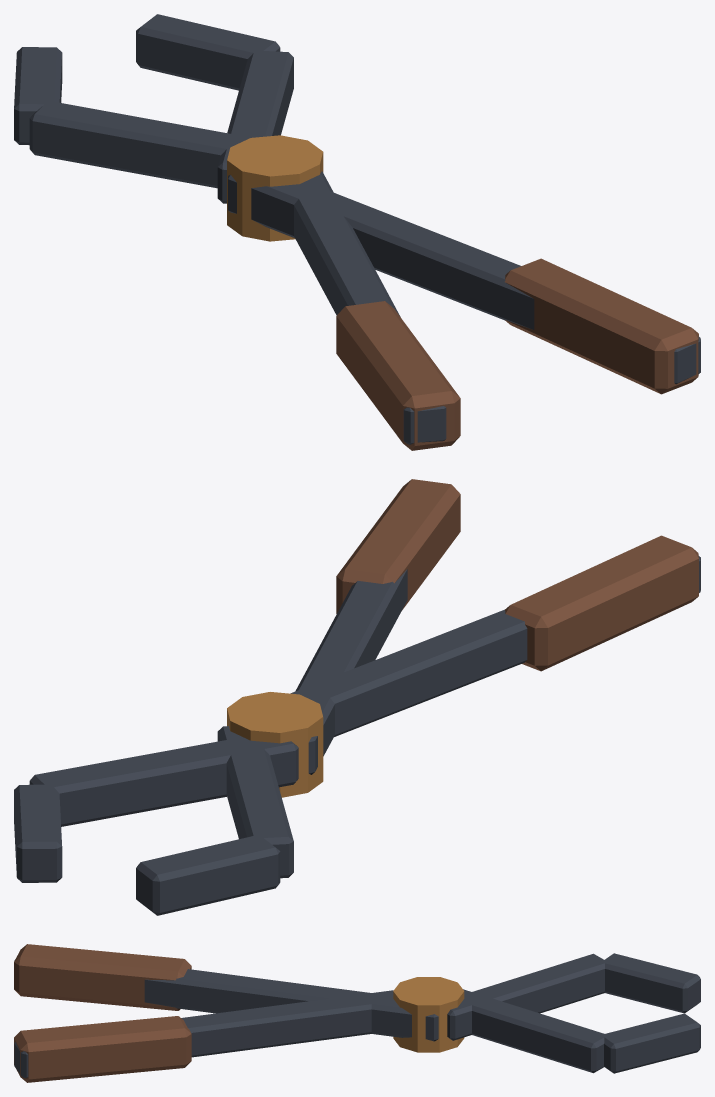
Rendered from 07_Smith_Tongs.glb.
3 renders of one model, top to bottom at view 1: azimuth 30°, elevation 25°; view 2: azimuth 150°, elevation 25°; view 3: azimuth 270°, elevation 25°, orthographic. The views are drawn at different scales.
Parts seen in each view (by area): view 1: 07_Smith_Tongs__Body; view 2: 07_Smith_Tongs__Body; view 3: 07_Smith_Tongs__Body.
Boxes of the visible parts, <box> form: 07_Smith_Tongs__Body: <box>14,14,700,450</box>; 07_Smith_Tongs__Body: <box>14,479,700,915</box>; 07_Smith_Tongs__Body: <box>14,944,700,1082</box>.
Size of the model in its own units: 0.9061 by 0.19 by 2.51.
Materials: 1 (1 with a texture image).
